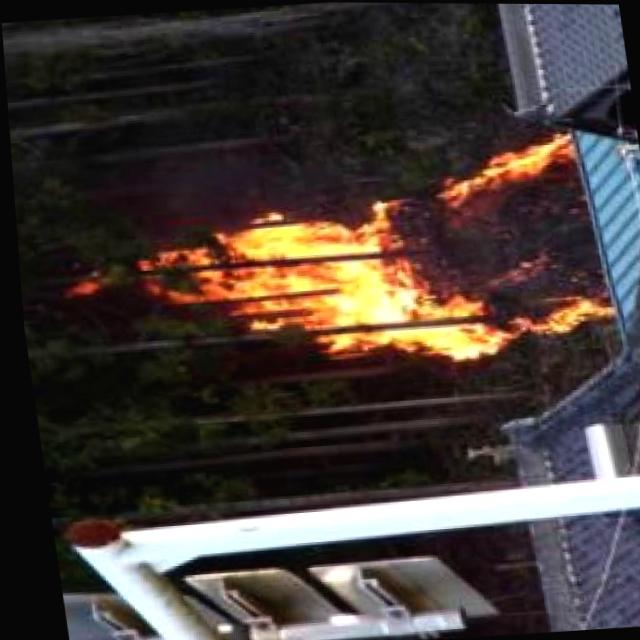Fire: (128, 134, 607, 376)
